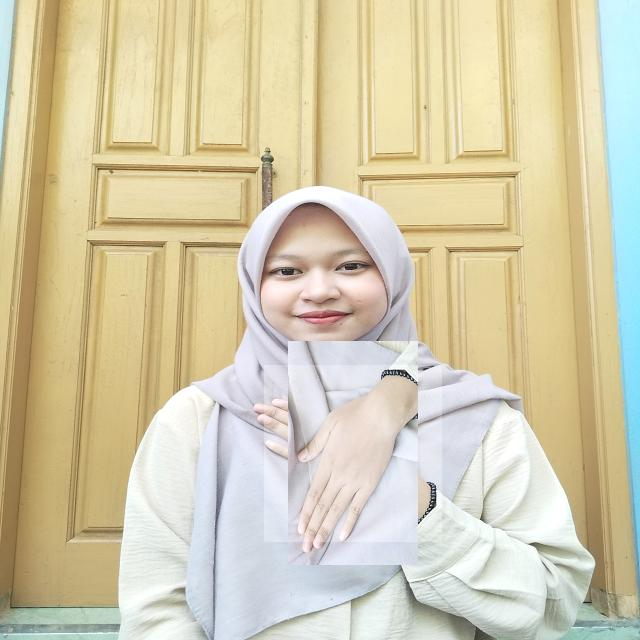tolong: (264, 365, 442, 542)
